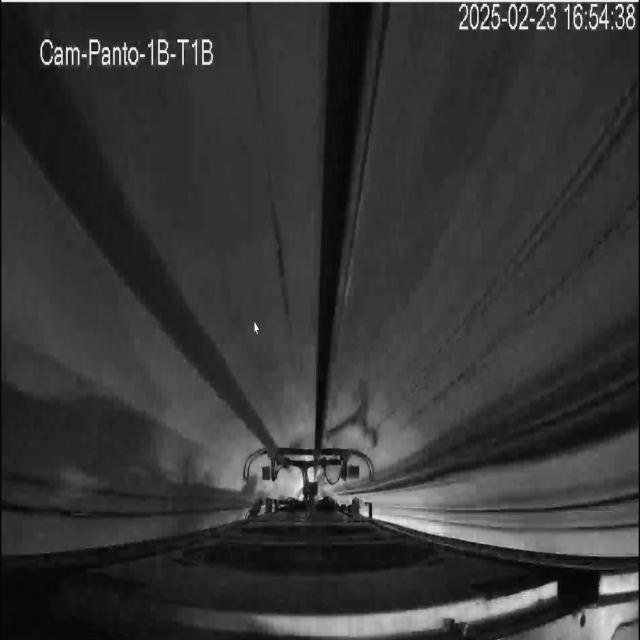Camera Stamp: (35, 29, 219, 71)
Date Stamp: (457, 3, 637, 33)
No - Spark: (244, 445, 375, 514)
